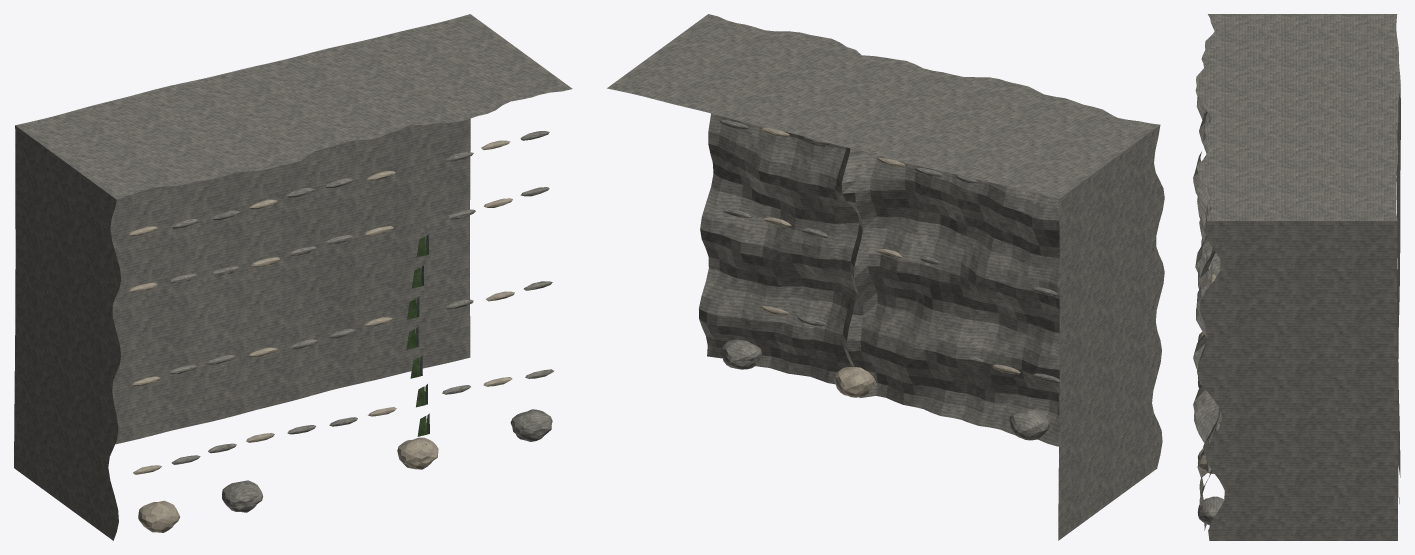
3 renders of one model, left to right at view 1: azimuth 30°, elevation 25°; view 2: azimuth 150°, elevation 25°; view 3: azimuth 270°, elevation 25°, orthographic. The views are drawn at different scales.
Visible parts, largest first — view 1: VIS_Cliff_ExposedRockFace__shale, VIS_Cliff_HorizontalBedstone__shale, VIS_Cliff_HorizontalBedstone__fracture, VIS_Talus_StoneBreakup__shale, VIS_Talus_StoneBreakup__fracture, VIS_DrainSeam_Moss__moss; view 2: VIS_Cliff_ExposedRockFace__shale, VIS_Talus_StoneBreakup__shale, VIS_Cliff_HorizontalBedstone__shale, VIS_Cliff_HorizontalBedstone__fracture, VIS_Talus_StoneBreakup__fracture; view 3: VIS_Cliff_ExposedRockFace__shale, VIS_Talus_StoneBreakup__shale.
Boxes of the visible parts, x1,y1,x2,y2 form: VIS_Cliff_ExposedRockFace__shale: [14, 14, 572, 540]; VIS_Cliff_HorizontalBedstone__shale: [168, 131, 553, 464]; VIS_Cliff_HorizontalBedstone__fracture: [129, 140, 514, 474]; VIS_Talus_StoneBreakup__shale: [222, 409, 552, 512]; VIS_Talus_StoneBreakup__fracture: [138, 437, 438, 532]; VIS_DrainSeam_Moss__moss: [406, 236, 427, 436]; VIS_Cliff_ExposedRockFace__shale: [607, 14, 1164, 540]; VIS_Talus_StoneBreakup__shale: [720, 339, 1050, 440]; VIS_Cliff_HorizontalBedstone__shale: [720, 120, 1059, 382]; VIS_Cliff_HorizontalBedstone__fracture: [761, 127, 1020, 374]; VIS_Talus_StoneBreakup__fracture: [834, 367, 875, 397]; VIS_Cliff_ExposedRockFace__shale: [1193, 14, 1400, 540]; VIS_Talus_StoneBreakup__shale: [1197, 376, 1224, 525].
Size of the model in its own units: 8.6 by 6.2 by 3.65.
Materials: 4 (4 with a texture image).
